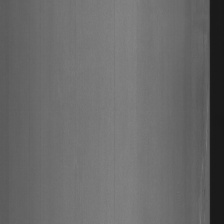silk_spot: (196, 19, 209, 221)
